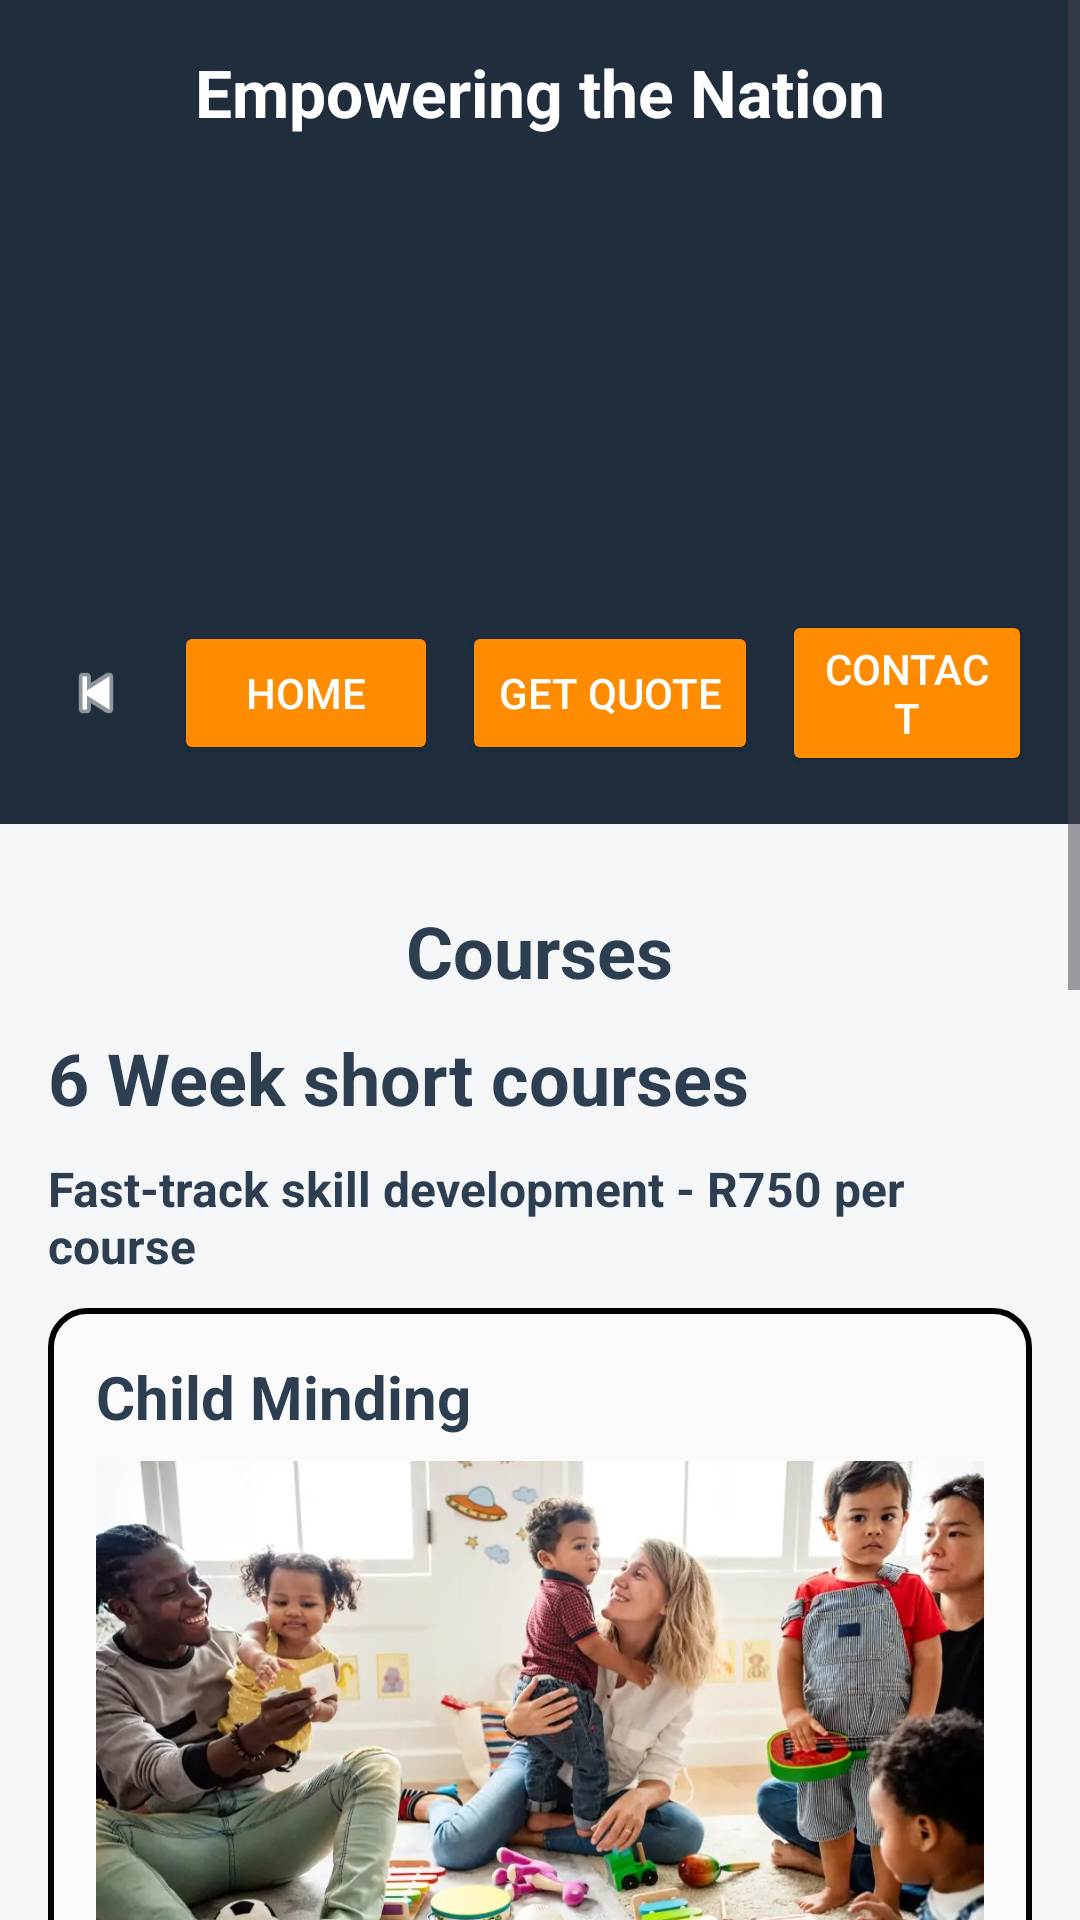

Where to tap for icons on this 1080px x 1920px app screen, as [x,y]:
Back: [96,693]
